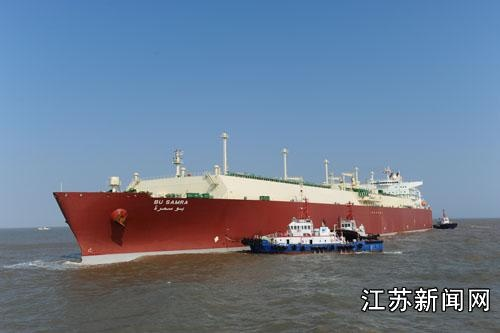Cargoship: (51, 132, 431, 263)
otherboat: (236, 205, 385, 254), (432, 208, 456, 231)
